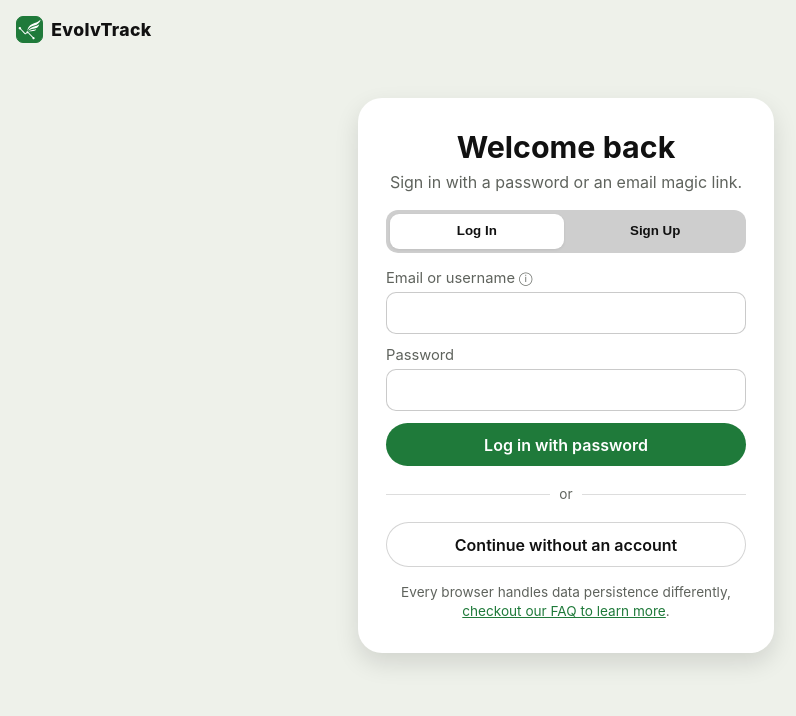
AuthTabs — forgot-password panel › toggles the panel closed when "Cancel" is clicked
This screenshot has width=796, height=716.
In the field labelled "Email or username ⓘ": (566, 313) [386, 292, 746, 334], type "alice@example.com"
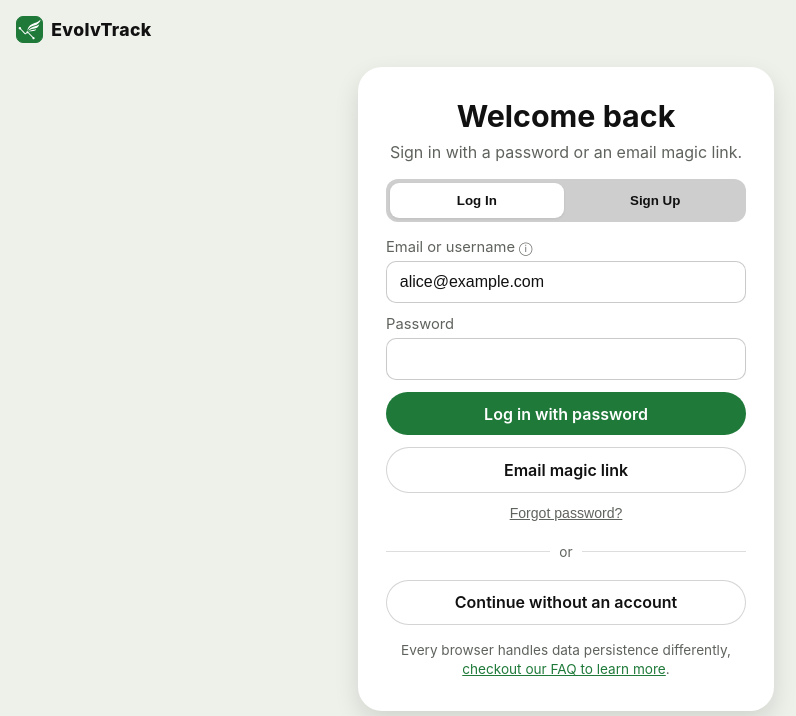
Click the button "Forgot password?": (566, 512) [503, 501, 629, 524]
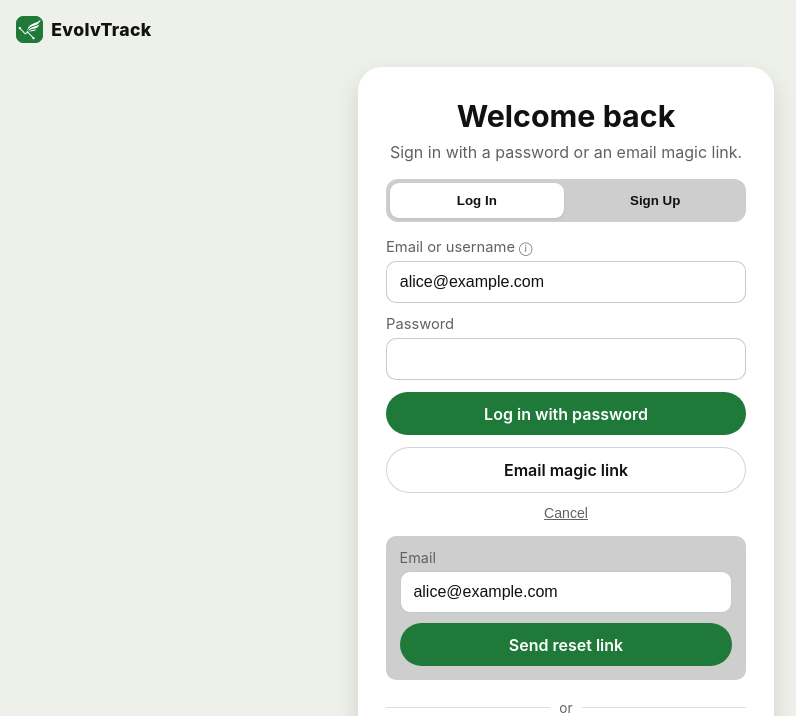
Click the button "Cancel": (566, 512) [538, 501, 594, 524]
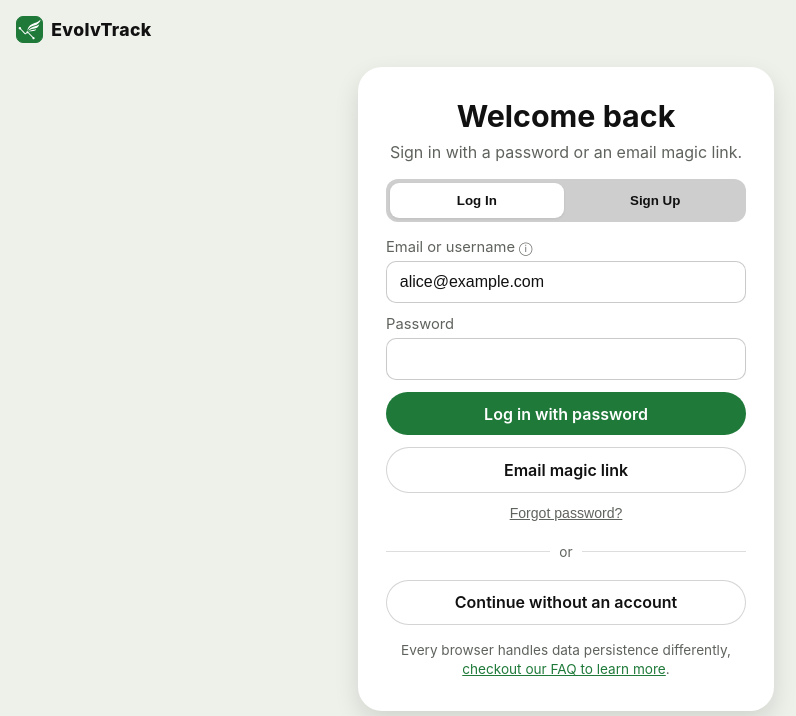
Expected: the element with id "forgot-panel" is gone
